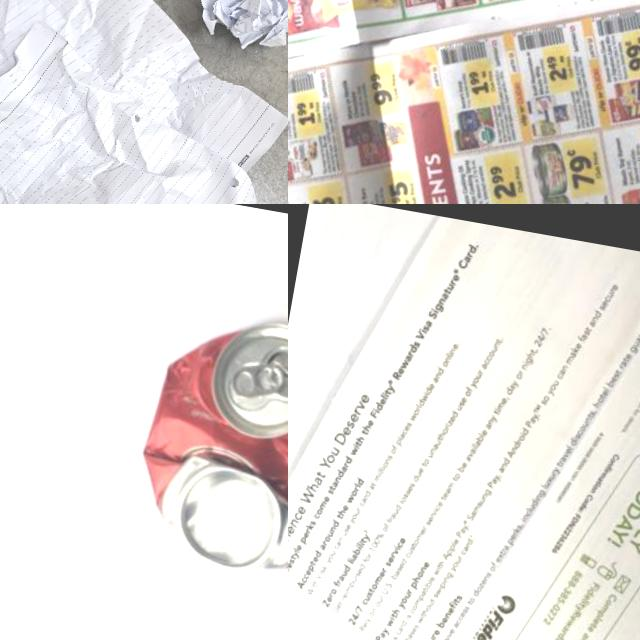aba de lata: (230, 355, 288, 401)
lata: (125, 298, 288, 585)
papel: (288, 204, 640, 640), (288, 0, 640, 204), (0, 0, 288, 204), (195, 0, 288, 60)
